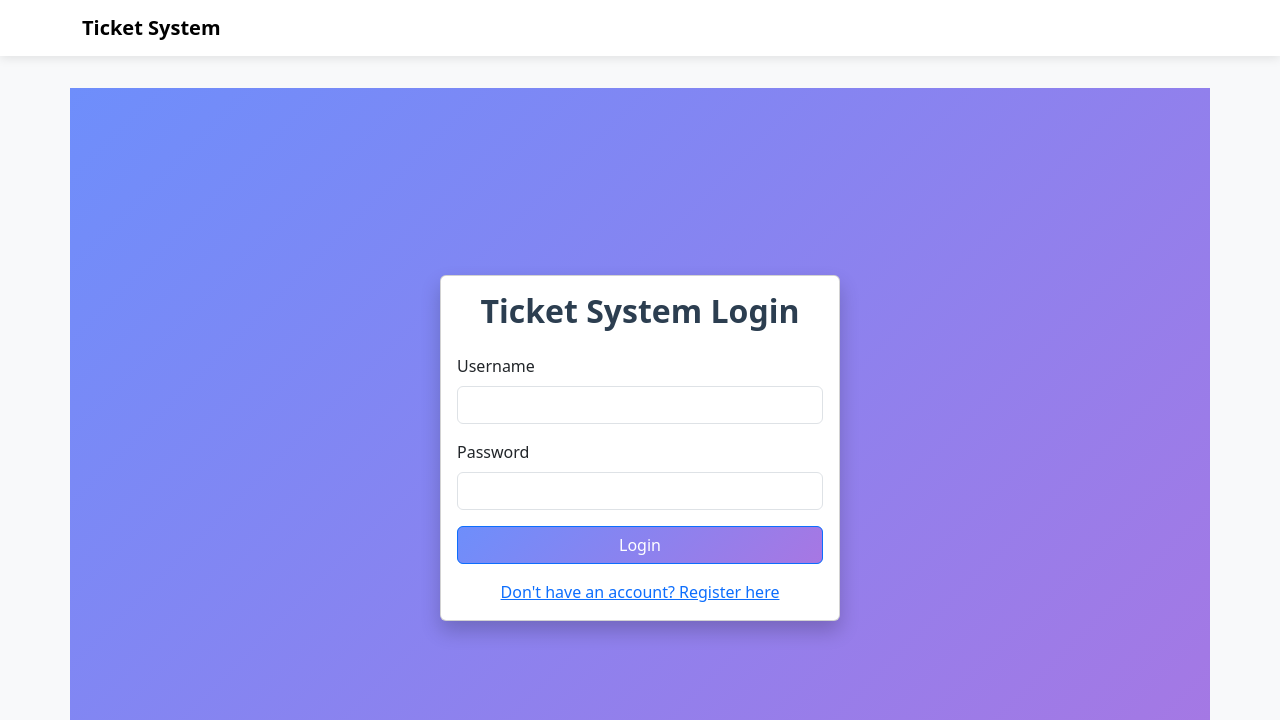
Test case: Authentication › should show error on invalid login
This screenshot has width=1280, height=720.
Type "invalid" into the field at (640, 405), box left=457, top=386, right=823, bottom=424
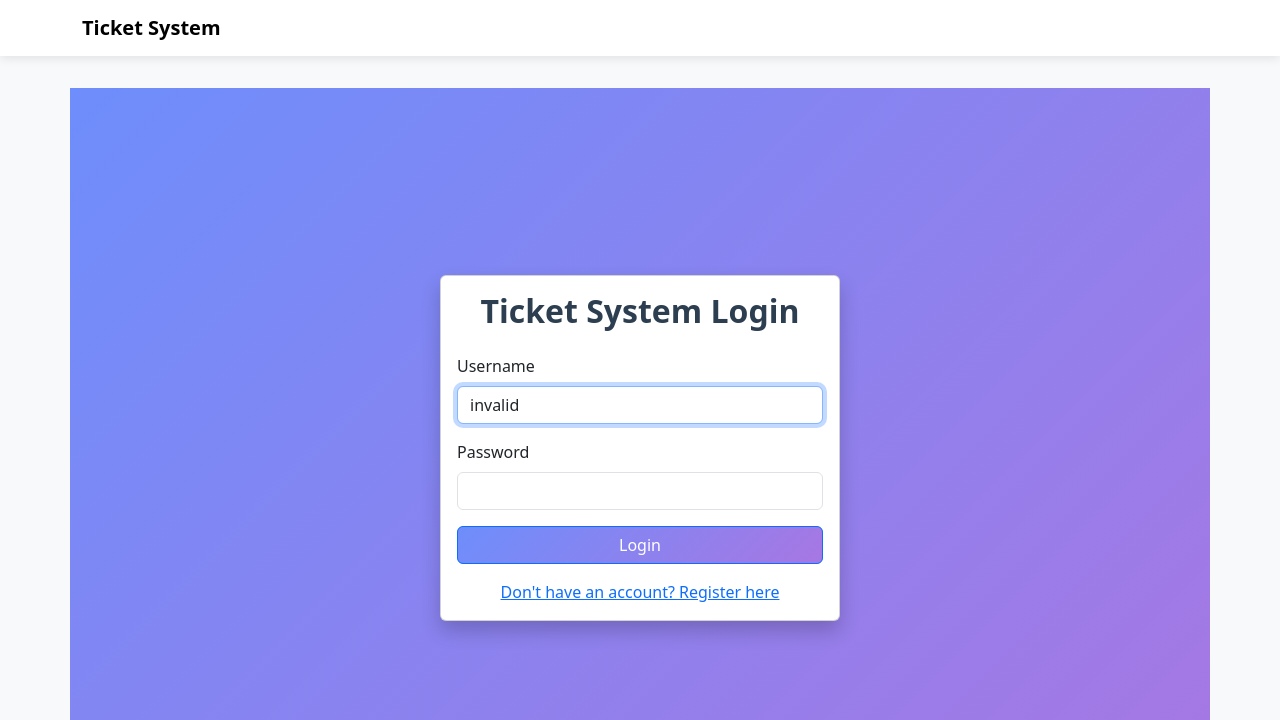
Type "invalid" into the password field at (640, 491), box left=457, top=472, right=823, bottom=510
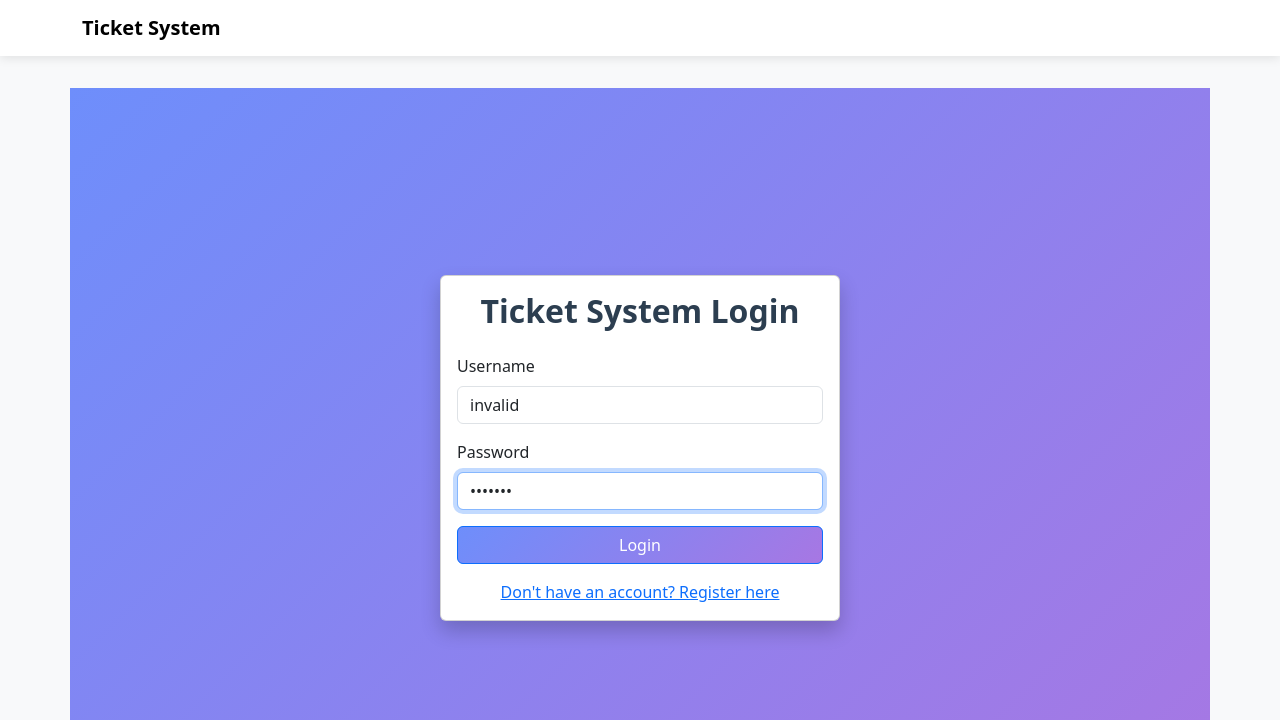
Click the submit button at (640, 545), box left=457, top=526, right=823, bottom=564
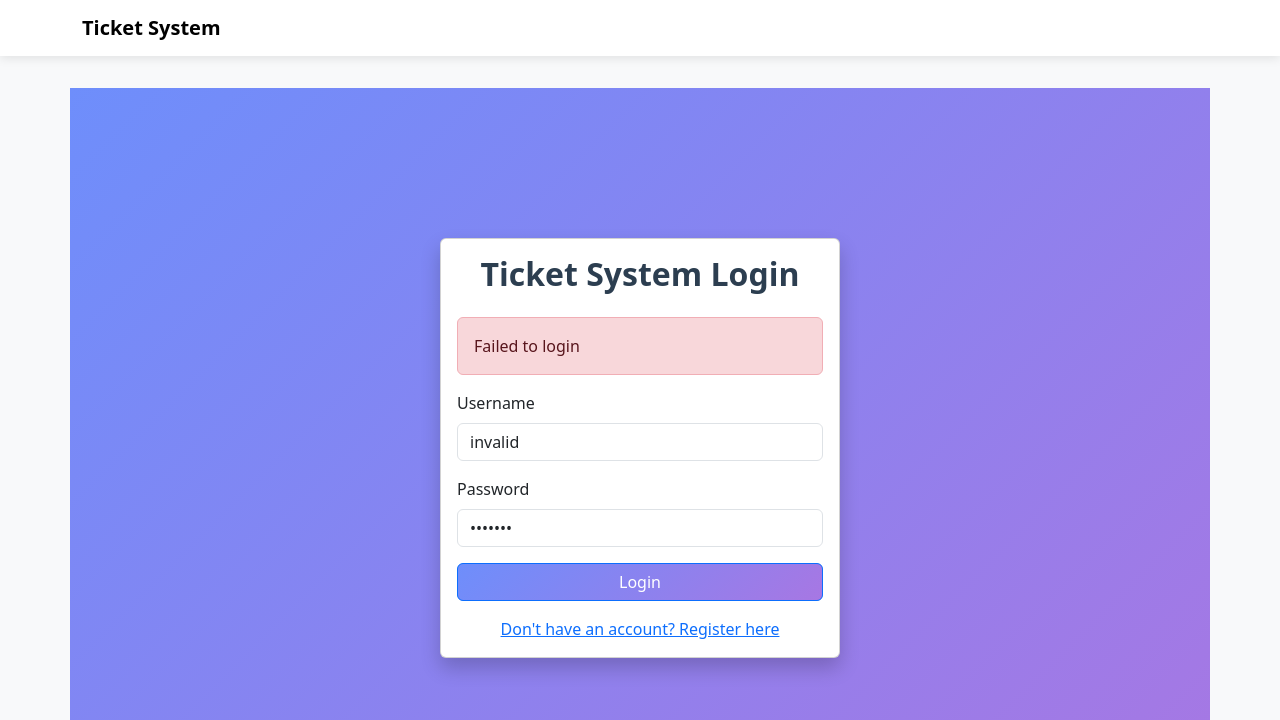
Expected: the message "Failed to login" is shown, left=457, top=317, right=823, bottom=375
